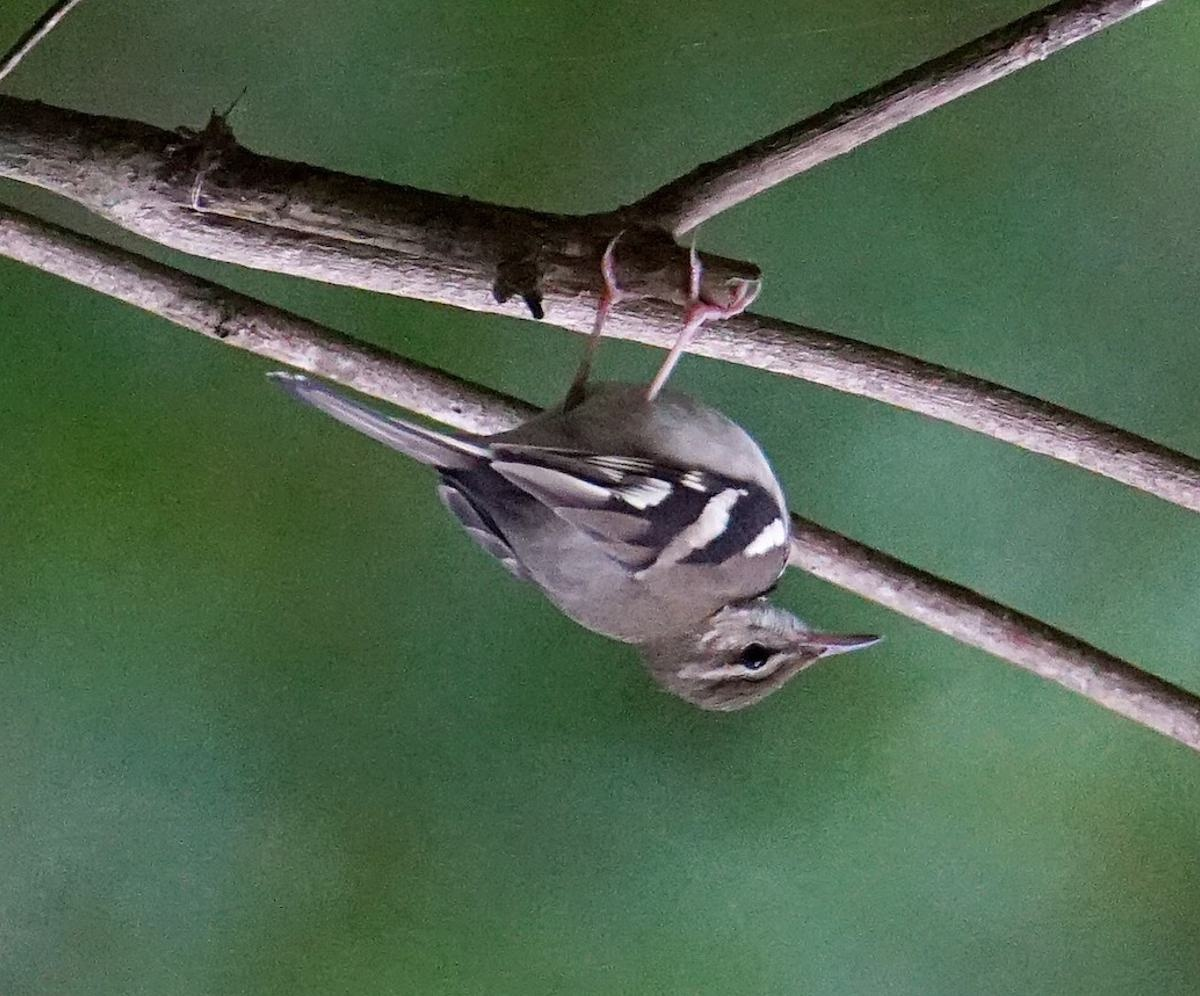wagtail: (358, 247, 886, 732)
